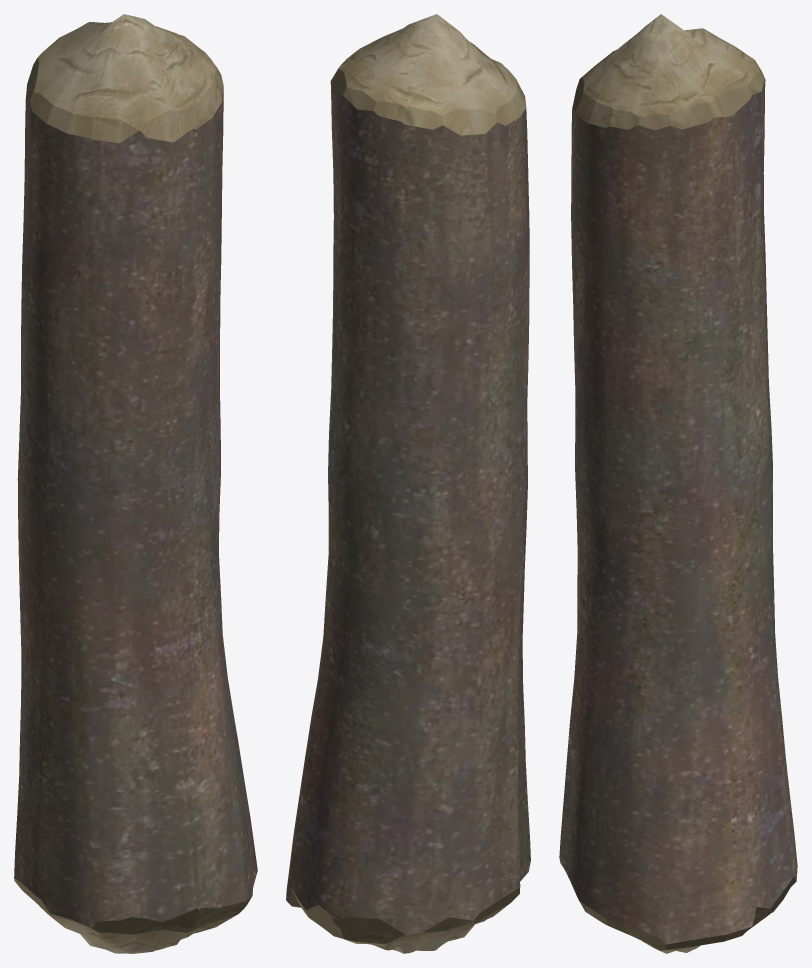
3 renders of one model, left to right at view 1: azimuth 30°, elevation 25°; view 2: azimuth 150°, elevation 25°; view 3: azimuth 270°, elevation 25°, orthographic. The views are drawn at different scales.
Parts seen in each view (by area): view 1: SM_BM_Ash_Tree_03_quarter_01_LOD0; view 2: SM_BM_Ash_Tree_03_quarter_01_LOD0; view 3: SM_BM_Ash_Tree_03_quarter_01_LOD0.
Part boxes in pixels (<box>): SM_BM_Ash_Tree_03_quarter_01_LOD0: <box>14,14,257,953</box>; SM_BM_Ash_Tree_03_quarter_01_LOD0: <box>286,14,530,953</box>; SM_BM_Ash_Tree_03_quarter_01_LOD0: <box>559,14,797,953</box>.
Bounding box in the file's own units: 0.5918 × 2.46 × 0.5786.
Materials: 1 (1 with a texture image).
